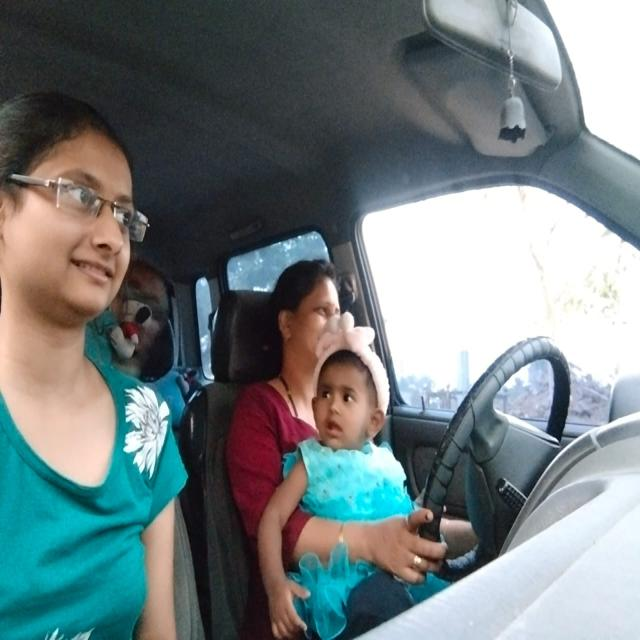child: (308, 354, 386, 456)
person: (0, 84, 153, 330), (266, 252, 360, 364)
